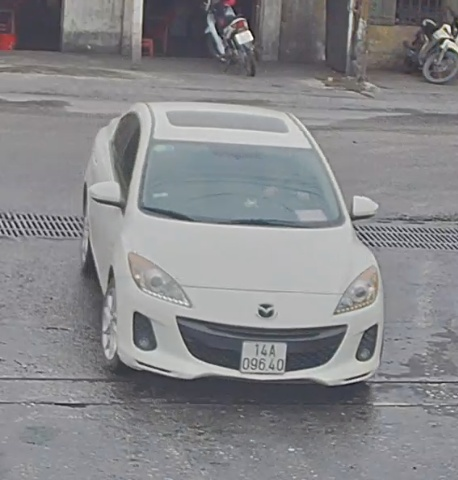vehicle plate: (239, 336, 291, 375)
